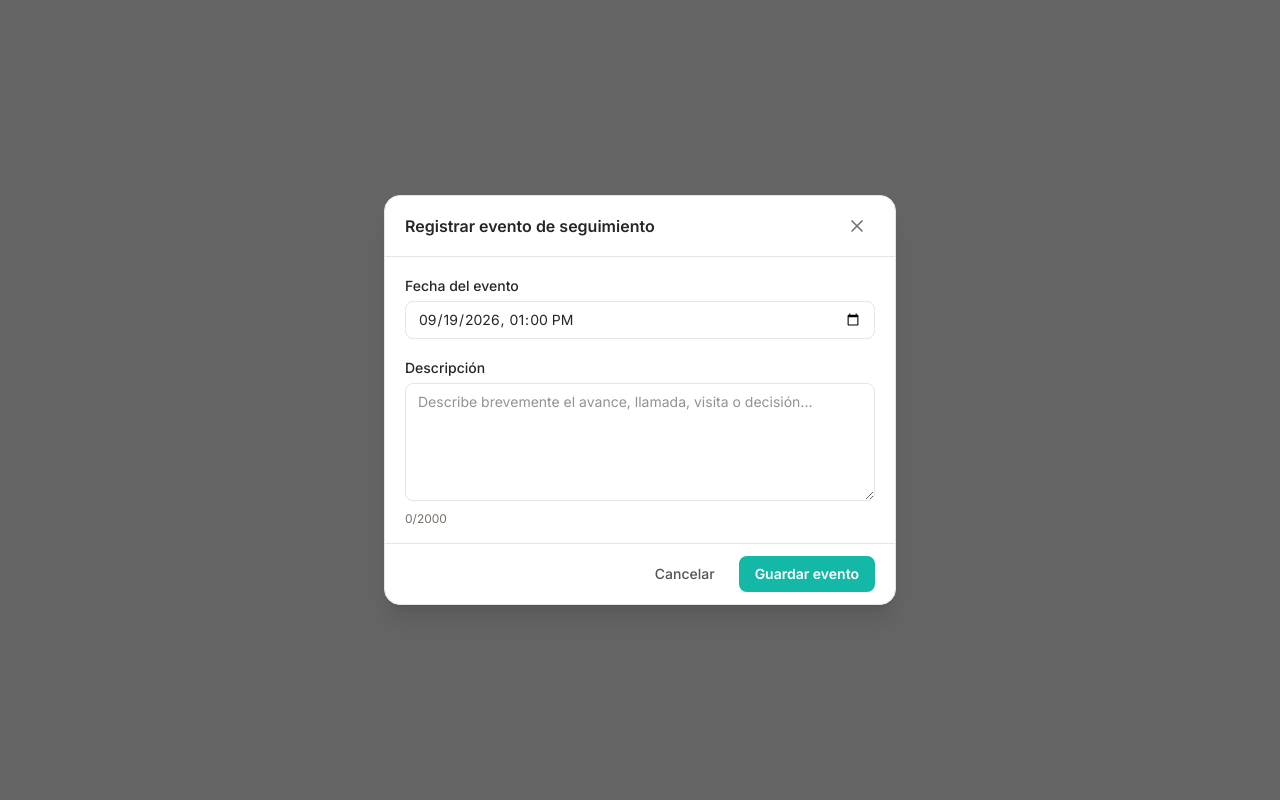
AdoptionEventCreateModal › rejects a future event date
The width and height of the screenshot is (1280, 800).
Type "Visita programada." into the text box with test id "event-description-input" at (640, 442), box x1=405 y1=383 x2=875 y2=501
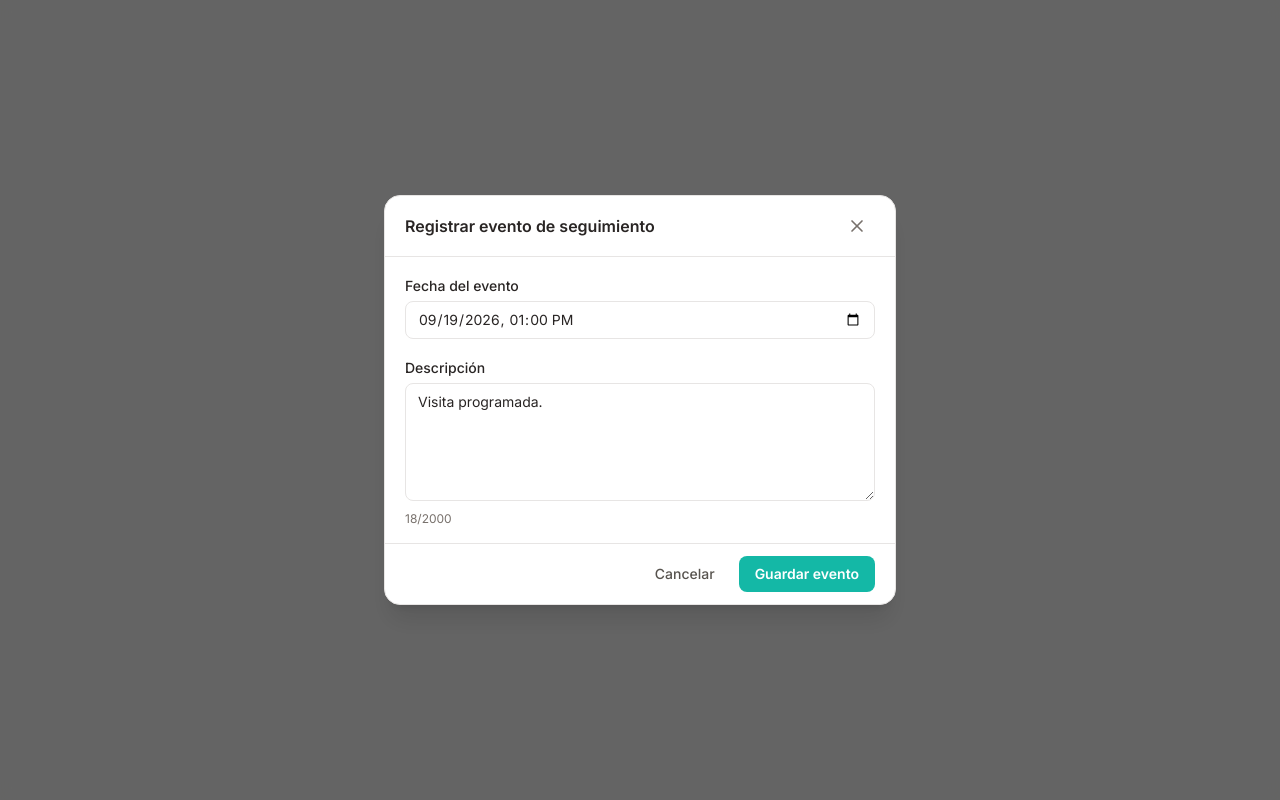
Replace the text in the field with test id "event-date-input" with "2099-01-01T10:00" at (640, 320), box x1=405 y1=301 x2=875 y2=339
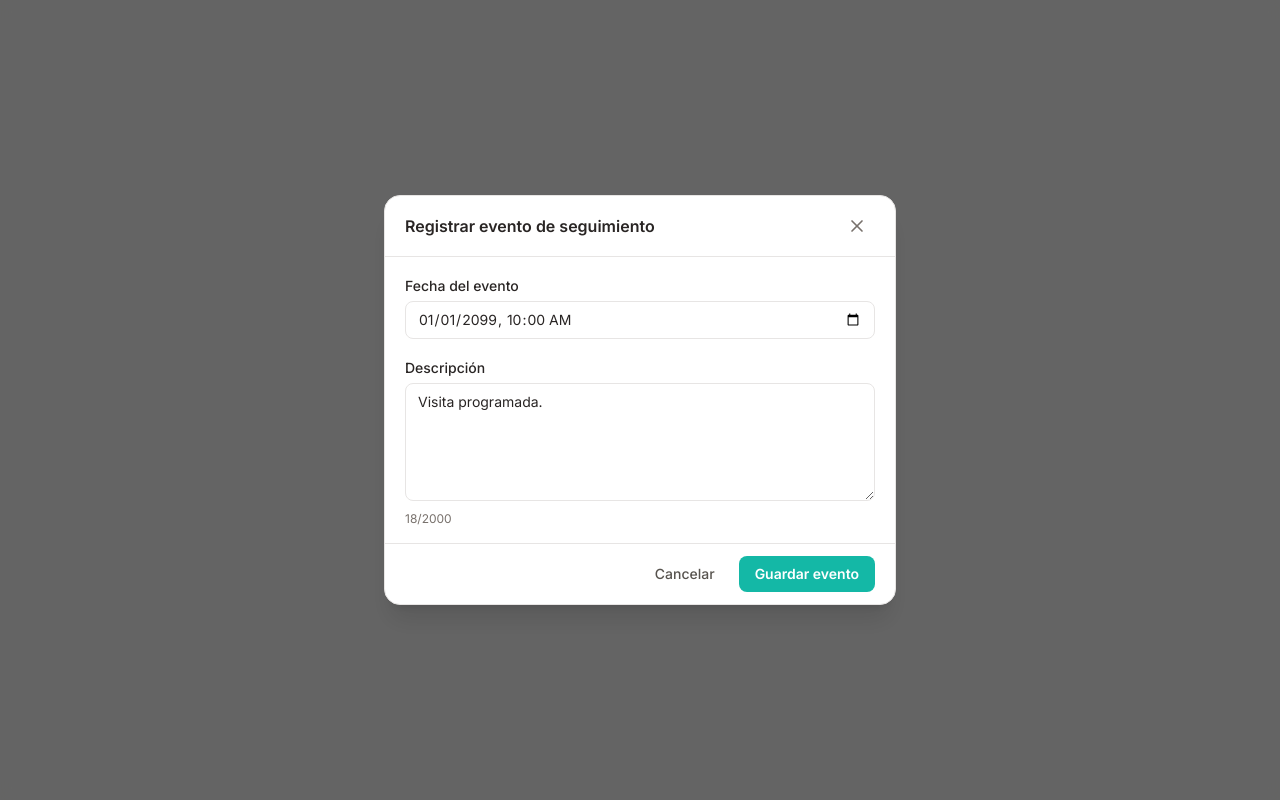
Click the button with test id "event-submit" at (807, 574), box x1=739 y1=556 x2=875 y2=592
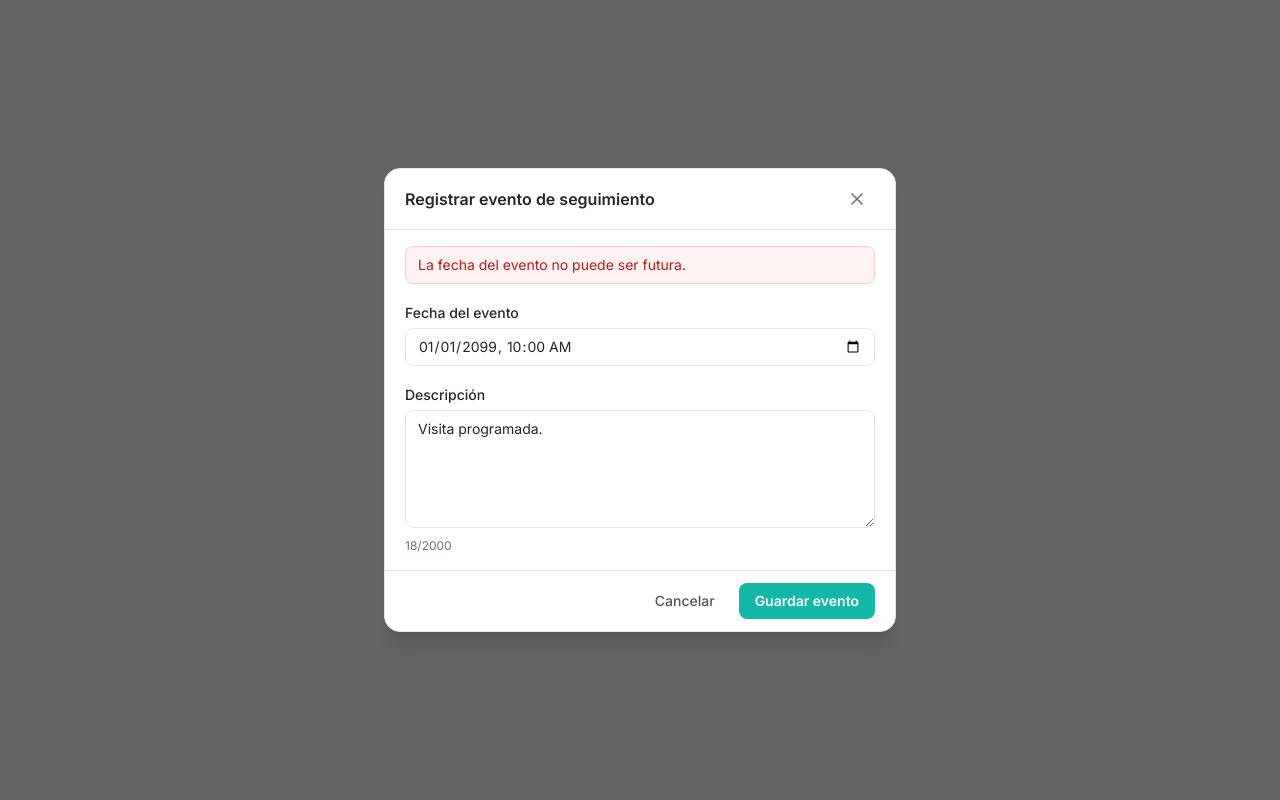
Expected: the text "La fecha del evento no puede ser futura." is shown, x1=405 y1=246 x2=875 y2=284
